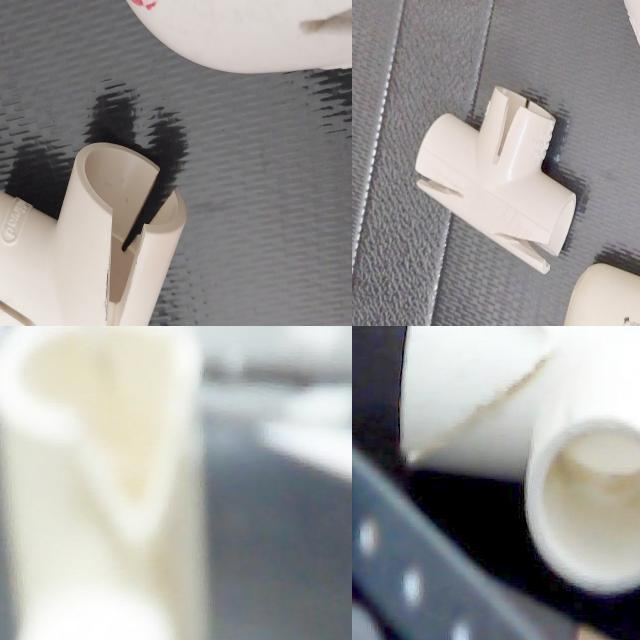Defective: (385, 354, 633, 494), (19, 392, 209, 554), (560, 221, 640, 276), (438, 39, 473, 118), (509, 26, 564, 71), (369, 191, 396, 271)
L Joint: (69, 246, 248, 326), (352, 125, 447, 273), (587, 181, 640, 326)
T Joint: (400, 326, 640, 597), (430, 0, 572, 141)
